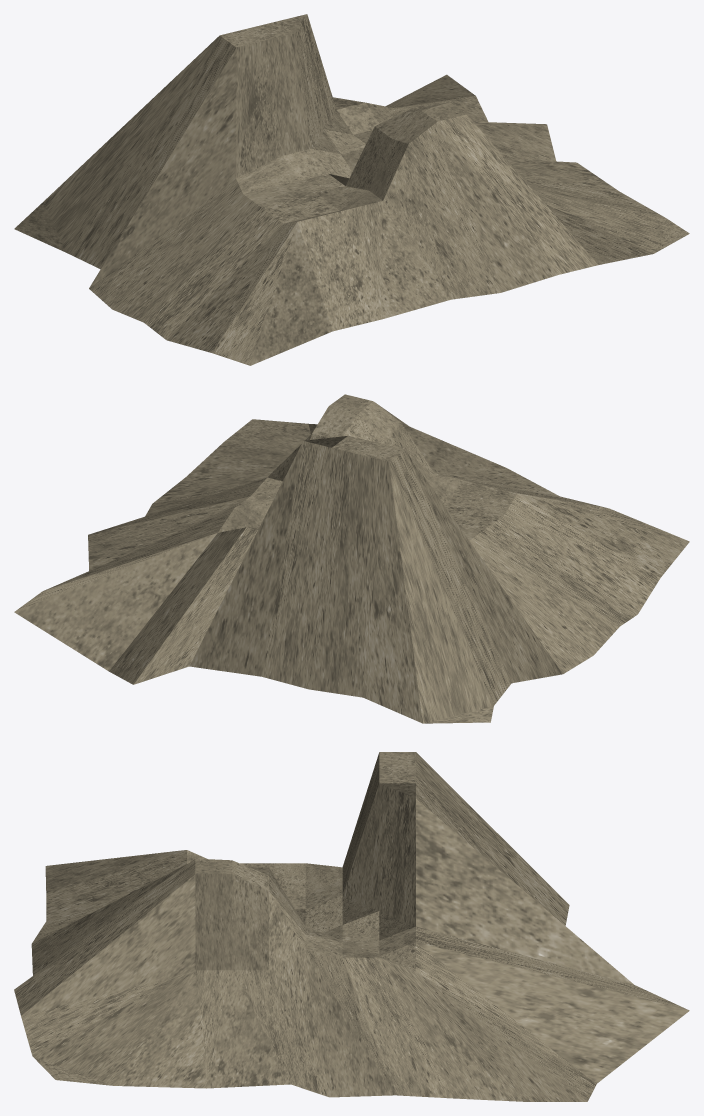
Rendered from mounteindew.obj.
3 views of the same model, one above another, from view 1: azimuth 30°, elevation 25°; view 2: azimuth 150°, elevation 25°; view 3: azimuth 270°, elevation 25° (orthographic). The views are drawn at different scales.
Parts seen in each view (by area): view 1: Plane; view 2: Plane; view 3: Plane.
Part boxes in pixels (x1=…): Plane: x1=14, y1=14, x2=689, y2=365; Plane: x1=14, y1=394, x2=689, y2=723; Plane: x1=14, y1=752, x2=689, y2=1101.
Size of the model in its own units: 40.8 by 16.72 by 45.93.
1 material, 1 textured.
